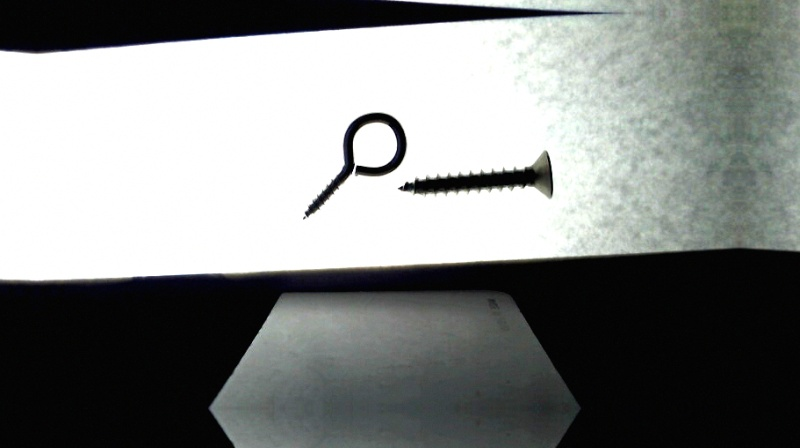O001: (301, 111, 407, 221)
S001: (396, 149, 554, 200)
